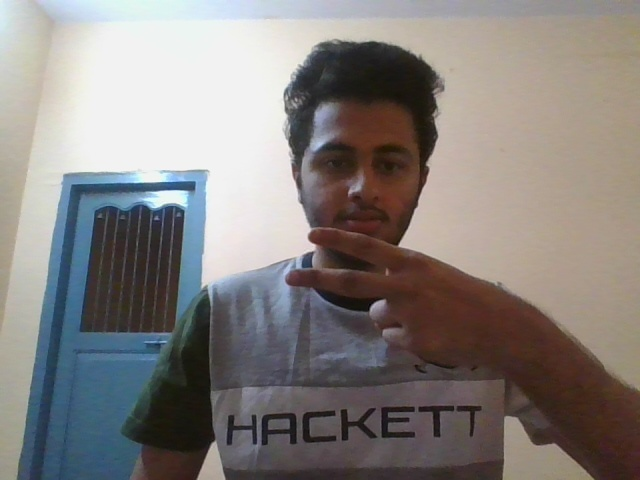Peace: (273, 221, 503, 374)
